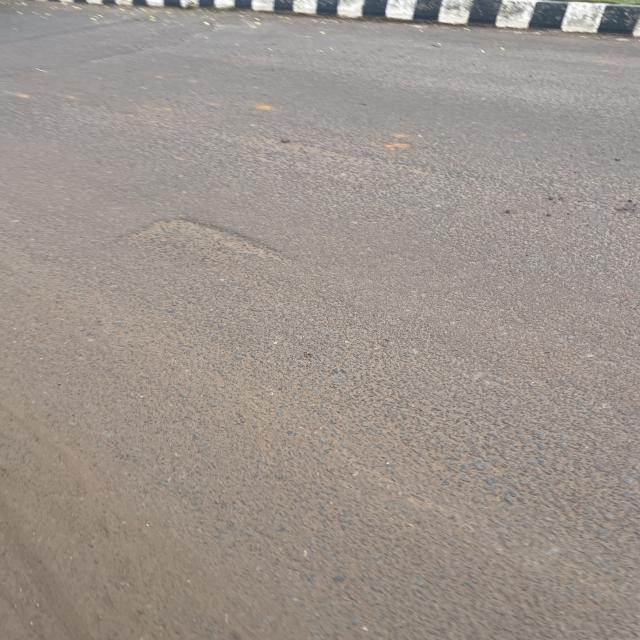D40: (140, 202, 290, 274)
